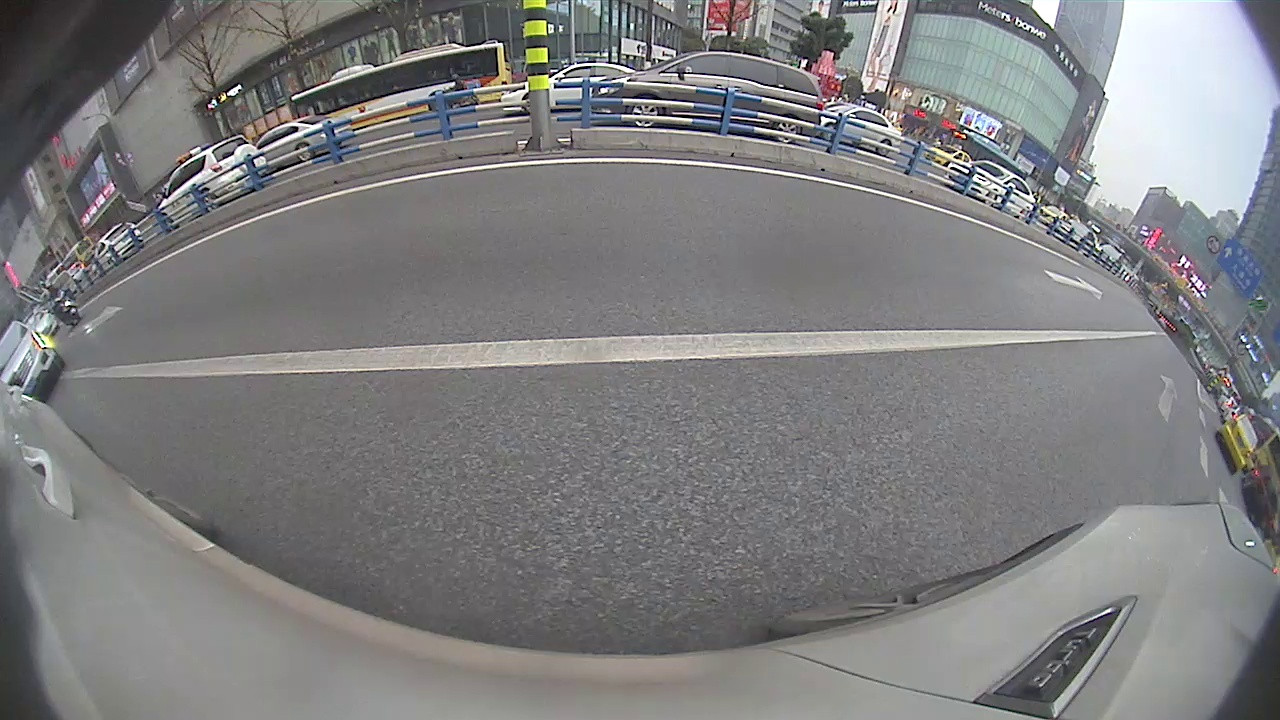bus: (286, 37, 515, 134)
car: (588, 48, 825, 145), (153, 133, 268, 234), (497, 59, 642, 115), (943, 156, 1039, 222)
front: (626, 94, 664, 131)
rear: (772, 117, 804, 147)
rider: (424, 72, 484, 115)
